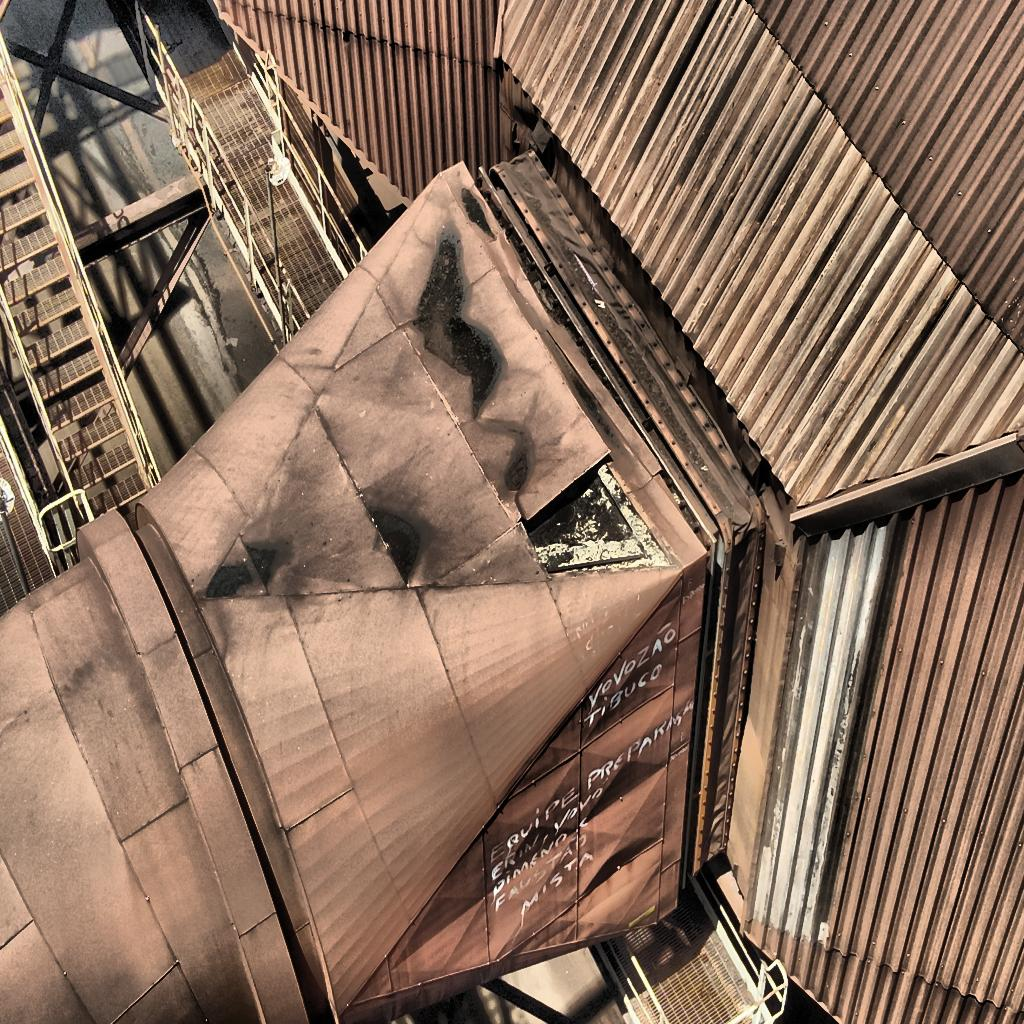Failures: (523, 460, 680, 582)
